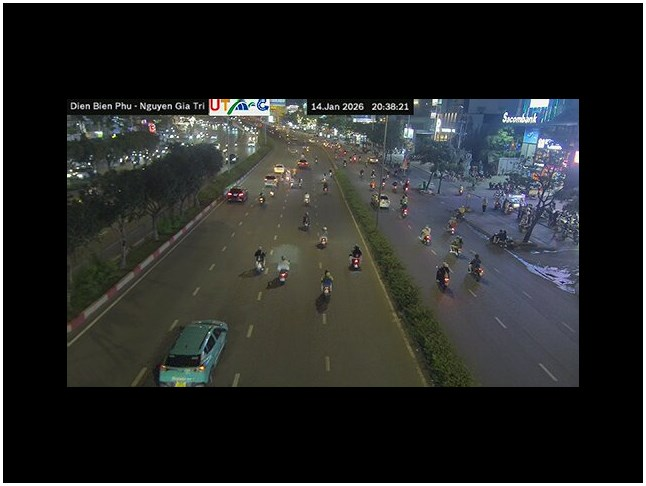car: (155, 319, 229, 386), (225, 187, 247, 203), (264, 172, 277, 187), (378, 195, 390, 208), (297, 156, 309, 169), (274, 162, 285, 174)
motorbike: (466, 256, 487, 280), (436, 261, 450, 290), (318, 269, 333, 295), (254, 245, 268, 272), (448, 235, 465, 257), (418, 224, 434, 247), (315, 224, 330, 248), (276, 257, 290, 282), (349, 247, 363, 269), (446, 215, 457, 234), (399, 202, 410, 216), (320, 180, 330, 194), (302, 210, 310, 227), (304, 192, 311, 204), (257, 192, 263, 204)
